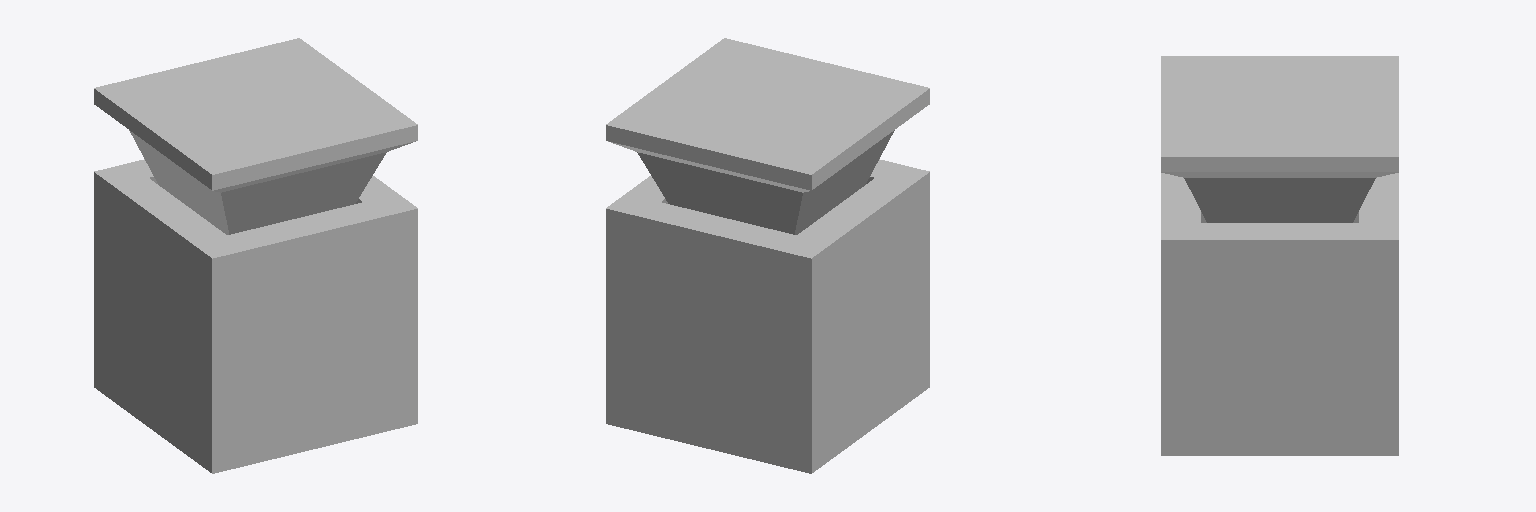
Rendered from AnimatedBox_000179.obj.
3 views of the same model, side by side, from view 1: azimuth 30°, elevation 25°; view 2: azimuth 150°, elevation 25°; view 3: azimuth 270°, elevation 25° (orthographic).
Visible parts, largest first — view 1: Cube, Cube.001; view 2: Cube, Cube.001; view 3: Cube, Cube.001.
Part boxes in pixels (left/top/right/bottom): Cube: left=94, top=159, right=417, bottom=473; Cube.001: left=94, top=38, right=417, bottom=234; Cube: left=606, top=159, right=929, bottom=473; Cube.001: left=606, top=38, right=929, bottom=234; Cube: left=1161, top=173, right=1398, bottom=455; Cube.001: left=1161, top=56, right=1398, bottom=222.
Size of the model in its own units: 2 by 2.78 by 2.